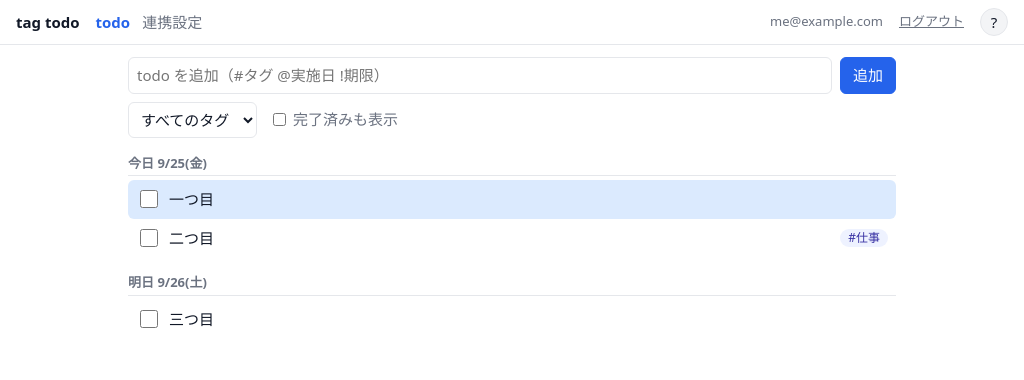
Test: todo の追加 › タイトルがないとエラーを表示する
Expected: the button "一つ目" is shown, [169,186,880,212]
In the field labelled "todo を追加": point(480, 75) [128,57,832,94], type "#家"
Then press Enter
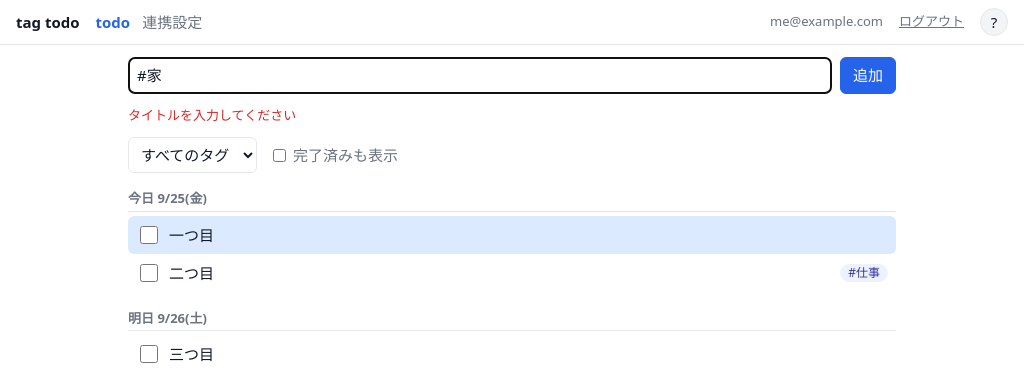
Expected: the message reads "タイトルを入力してください", [128,106,296,124]
